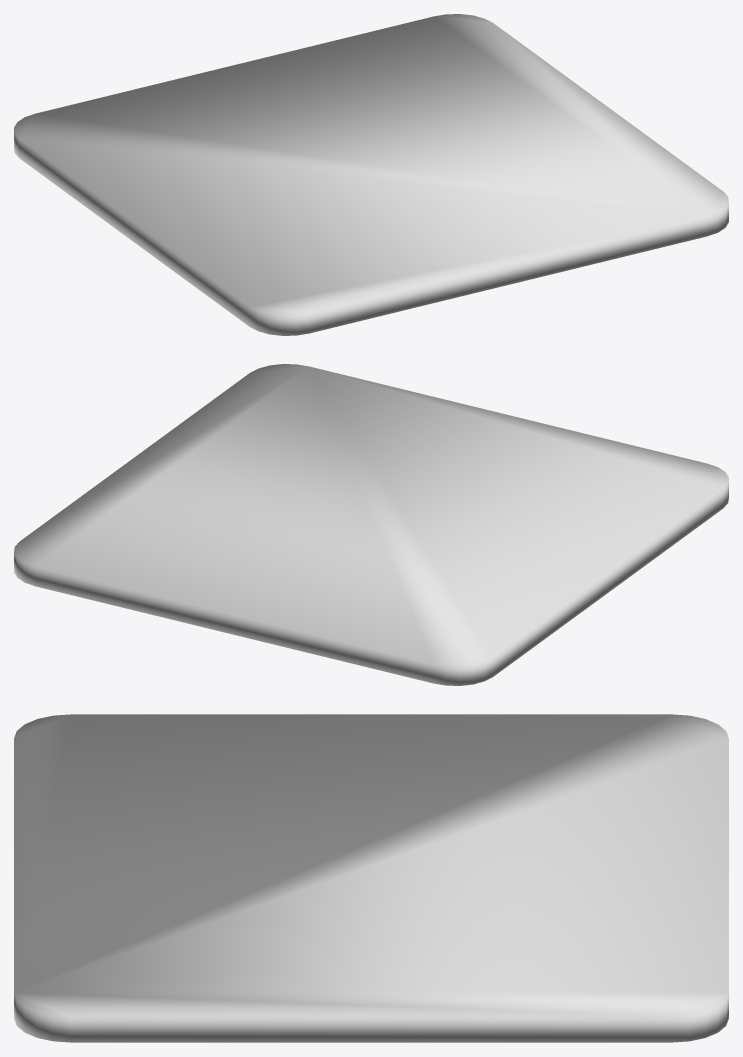
The model's file is Metal_Rounded.glb.
3 views of the same model, one above another, from view 1: azimuth 30°, elevation 25°; view 2: azimuth 150°, elevation 25°; view 3: azimuth 270°, elevation 25° (orthographic). The views are drawn at different scales.
Visible parts, largest first — view 1: PF_Metal_4; view 2: PF_Metal_4; view 3: PF_Metal_4.
Part boxes in pixels (left/top/right/bottom): PF_Metal_4: left=14, top=14, right=728, bottom=335; PF_Metal_4: left=14, top=364, right=728, bottom=685; PF_Metal_4: left=14, top=714, right=728, bottom=1042.
Bounding box in the file's own units: 1.17 × 0.0468 × 1.17.
3 materials, 1 textured.
